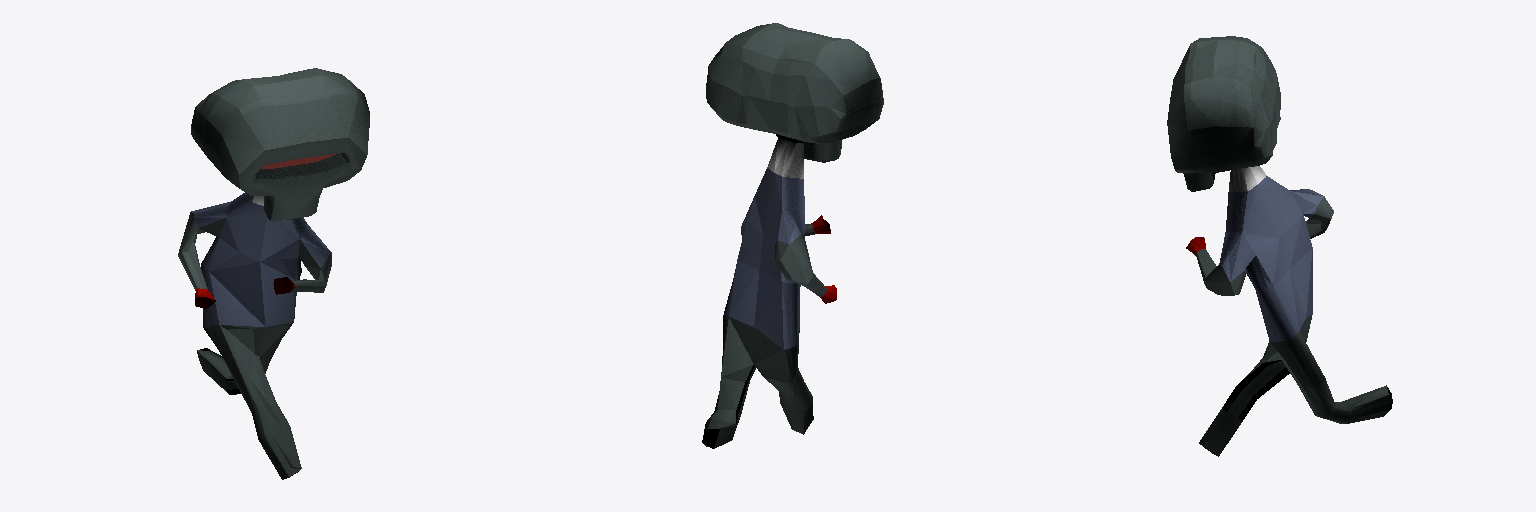
3 views of the same model, side by side, from view 1: azimuth 30°, elevation 25°; view 2: azimuth 150°, elevation 25°; view 3: azimuth 270°, elevation 25° (orthographic).
Parts seen in each view (by area): view 1: Plane; view 2: Plane; view 3: Plane.
Boxes of the visible parts, <box> form: Plane: <box>178,68,369,479</box>; Plane: <box>702,23,883,448</box>; Plane: <box>1167,36,1392,456</box>.
Bounding box in the file's own units: 3.43 × 8.58 × 4.39.
6 materials, 1 textured.